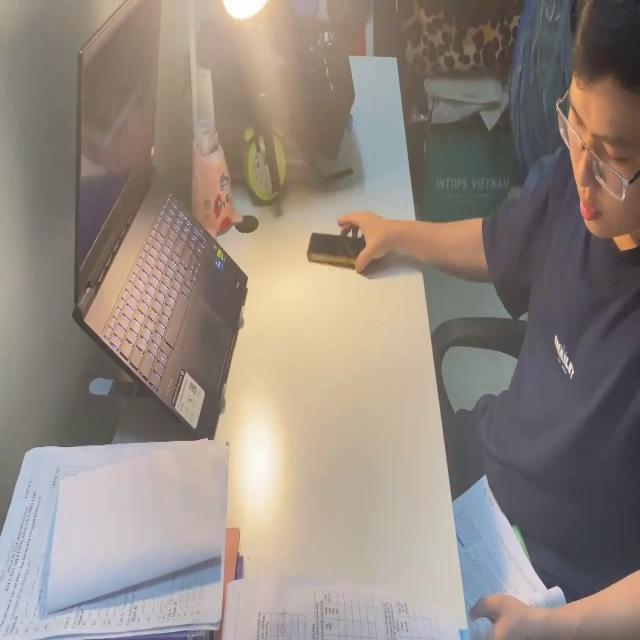book: (0, 430, 230, 640), (446, 477, 564, 640), (222, 572, 454, 640)
laptop: (68, 0, 250, 437)
phone: (306, 228, 374, 270)
student: (338, 0, 640, 640)
